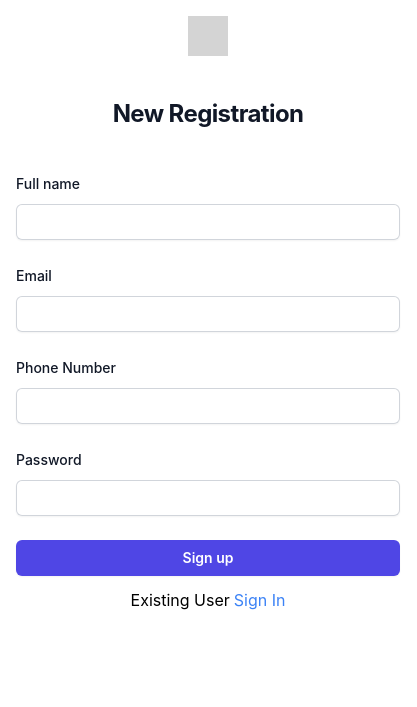
Test: Registration form › submits the form with correct data
Step 1. Type "Dharamvir" into the field with test id "fullName" → (208, 222), box left=16, top=204, right=400, bottom=240
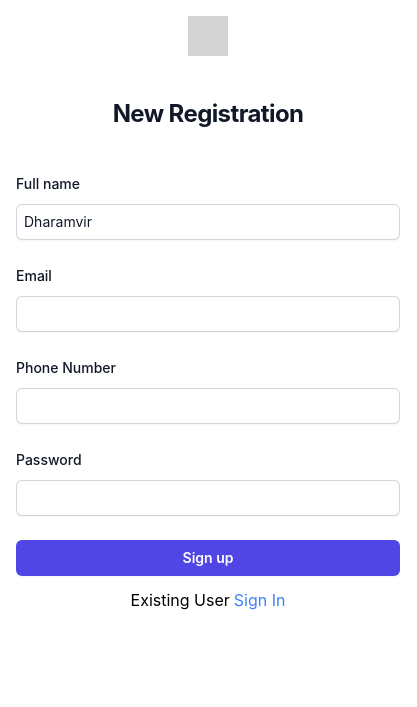
Step 2. Type "dharamvir@example.com" into the field with test id "email" → (208, 314), box left=16, top=296, right=400, bottom=332
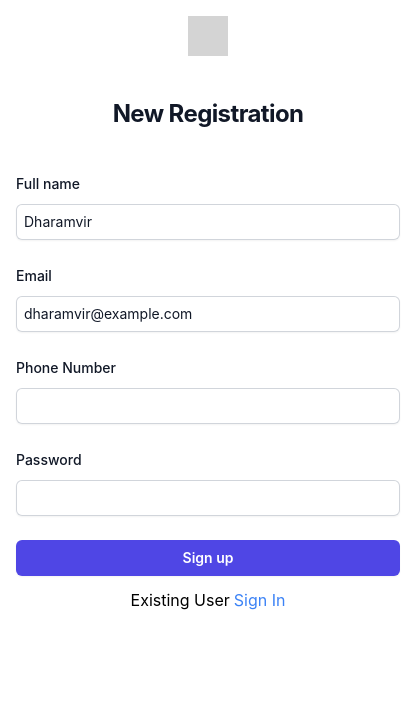
Step 3. Type "9999955555" into the field with test id "phoneNumber" → (208, 406), box left=16, top=388, right=400, bottom=424
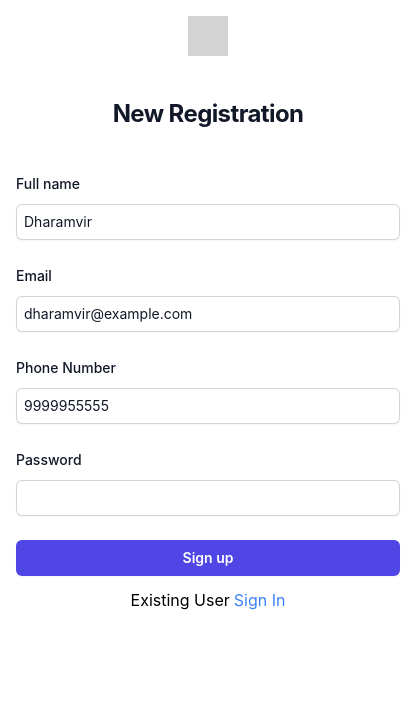
Step 4. Type "Nokia@123" into the password field with test id "password" → (208, 498), box left=16, top=480, right=400, bottom=516
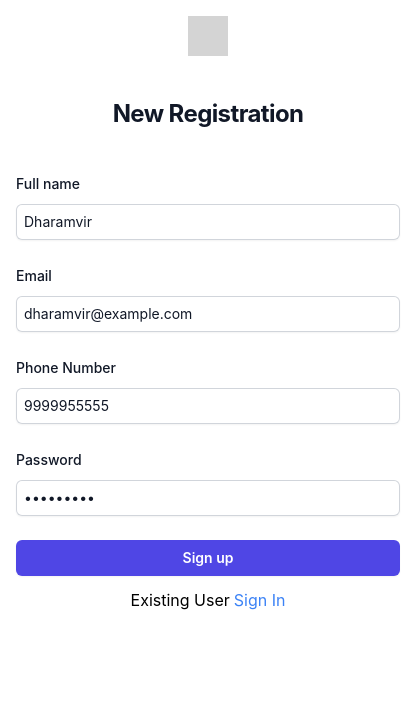
Step 5. Click the button with test id "sign-up" → click(208, 558), box left=16, top=540, right=400, bottom=576
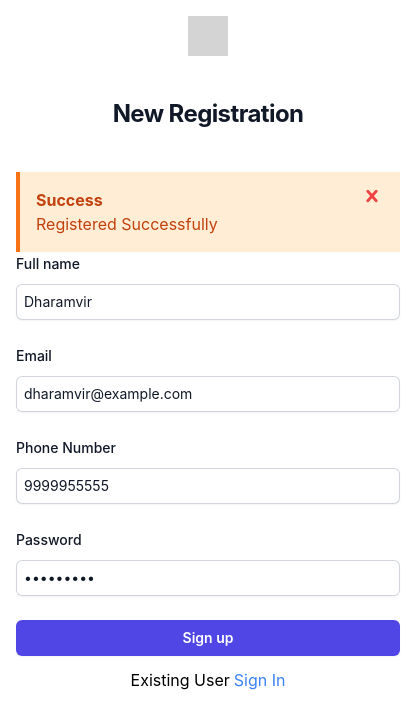
Check: the text "Registered Successfully" is shown, box left=36, top=214, right=218, bottom=234
